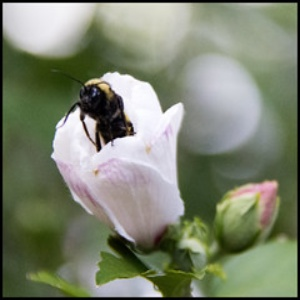bee: (50, 62, 140, 146)
